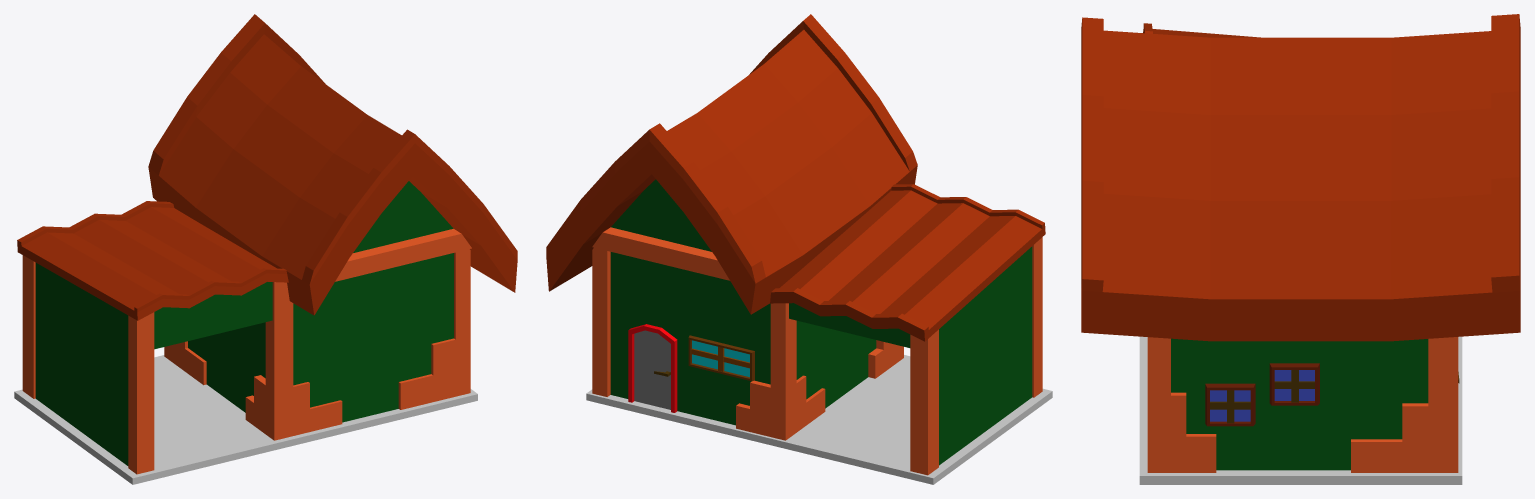
Rendered from CasaComCagragemAbertaVerde.fbx.
3 views of the same model, side by side, from view 1: azimuth 30°, elevation 25°; view 2: azimuth 150°, elevation 25°; view 3: azimuth 270°, elevation 25° (orthographic). The views are drawn at different scales.
Parts seen in each view (by area): view 1: CasaComCagragemAbertaVerde; view 2: CasaComCagragemAbertaVerde; view 3: CasaComCagragemAbertaVerde.
Part boxes in pixels (x1=…): CasaComCagragemAbertaVerde: x1=14, y1=14, x2=517, y2=484; CasaComCagragemAbertaVerde: x1=546, y1=14, x2=1052, y2=484; CasaComCagragemAbertaVerde: x1=1081, y1=14, x2=1520, y2=484.
Bounding box in the file's own units: 1188 × 951 × 912.
